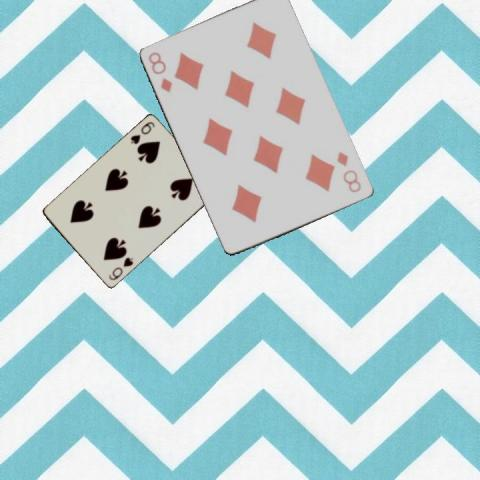6s: (105, 255, 135, 282), (127, 119, 156, 146)
8d: (334, 148, 363, 194), (145, 48, 174, 94)
